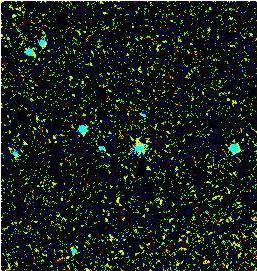star: (132, 154, 162, 184)
